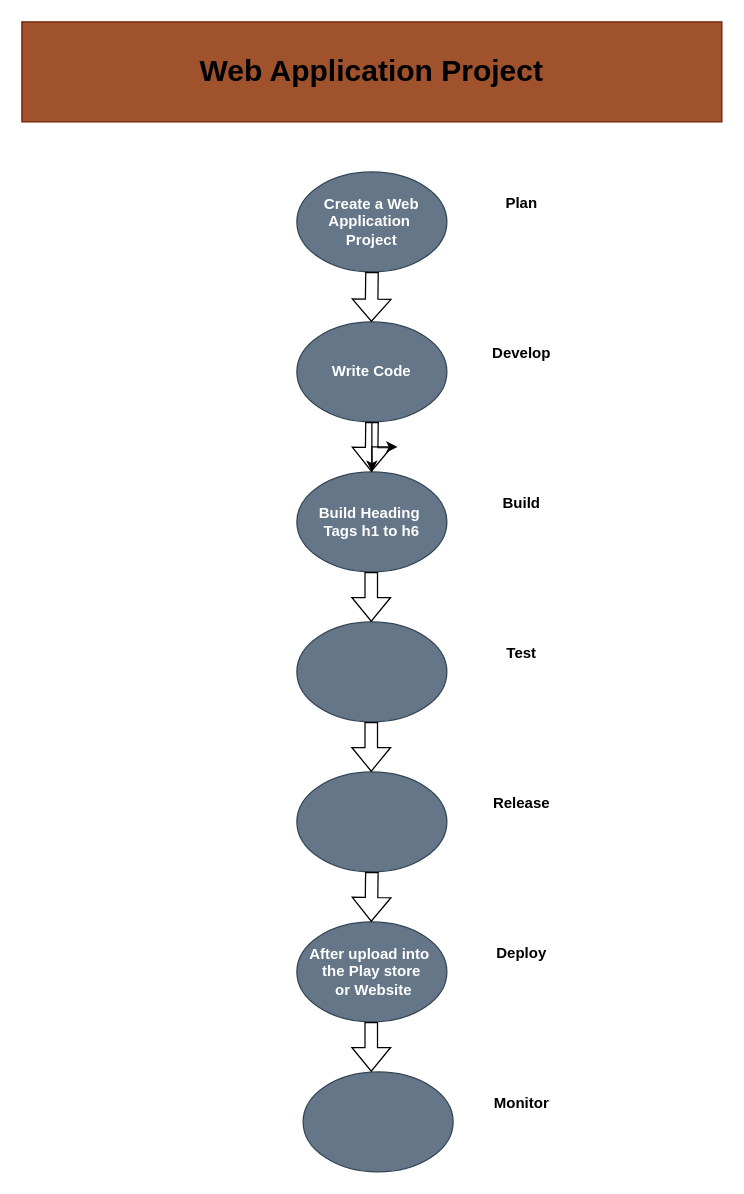
Image size: 744x1194. Some labels were removed from this diagram. Here are the shapes that lost their labels. From the top down, the centre of each, then its label:
(371,671): Run the code in Visual Studios for testing
(371,821): If any error occurs, we rectified it
(377,1121): Monitor the Project Without any Problems
